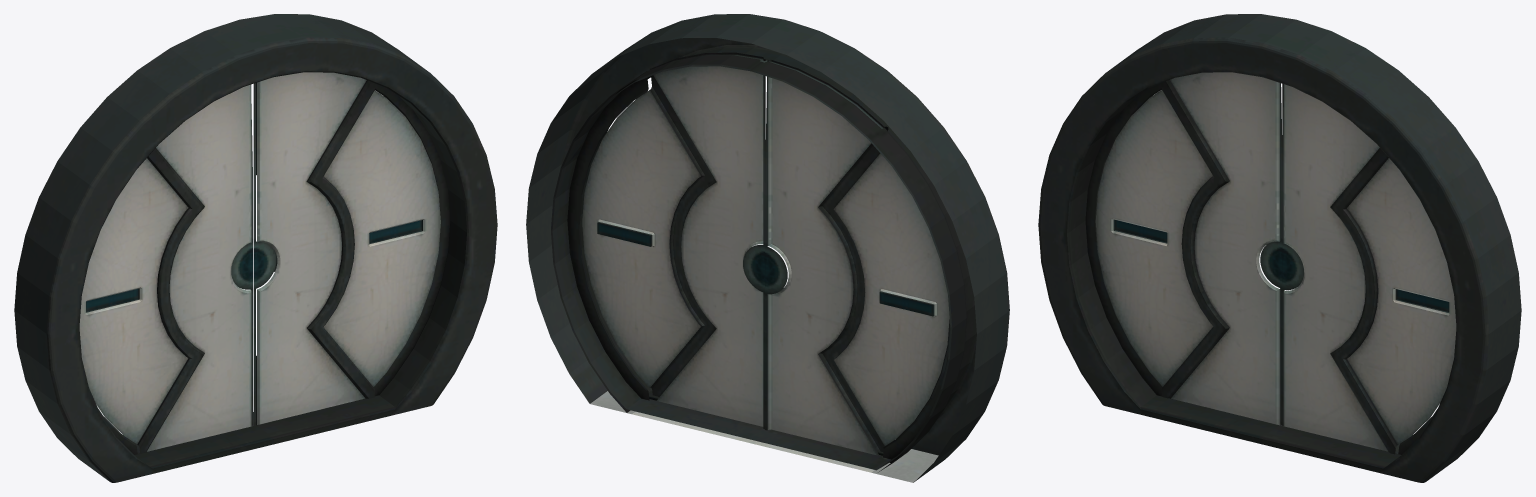
File: Door.fbx
3 renders of one model, left to right at view 1: azimuth 30°, elevation 25°; view 2: azimuth 150°, elevation 25°; view 3: azimuth 330°, elevation 25°, orthographic.
Parts seen in each view (by area): view 1: g0, Object002, Object001; view 2: g0, Object002, Object001; view 3: g0, Object001, Object002.
Boxes of the visible parts, x1,y1,x2,y2 form: g0: [14, 14, 497, 482]; Object002: [253, 72, 440, 425]; Object001: [79, 84, 252, 453]; g0: [526, 14, 1009, 482]; Object002: [582, 52, 765, 429]; Object001: [765, 59, 949, 455]; g0: [1038, 14, 1521, 482]; Object001: [1095, 72, 1282, 425]; Object002: [1282, 83, 1456, 454].
Size of the model in its own units: 5028 by 4262 by 666.
